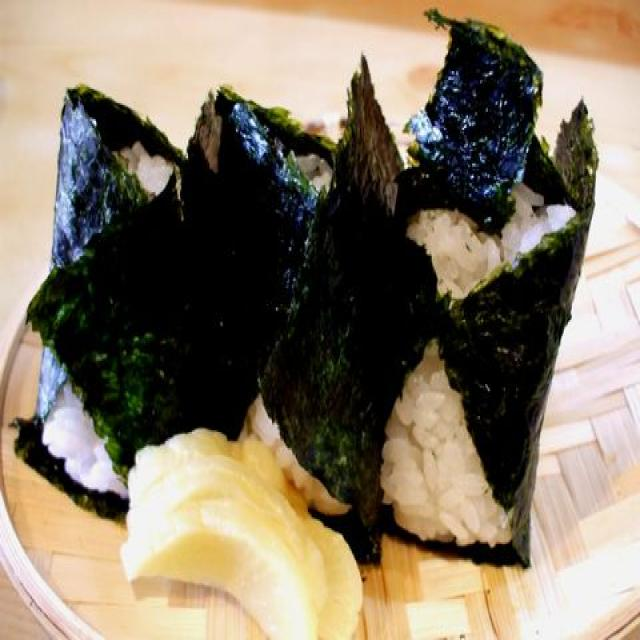米饭主食: (368, 11, 600, 567), (4, 70, 204, 518), (180, 91, 357, 533)
